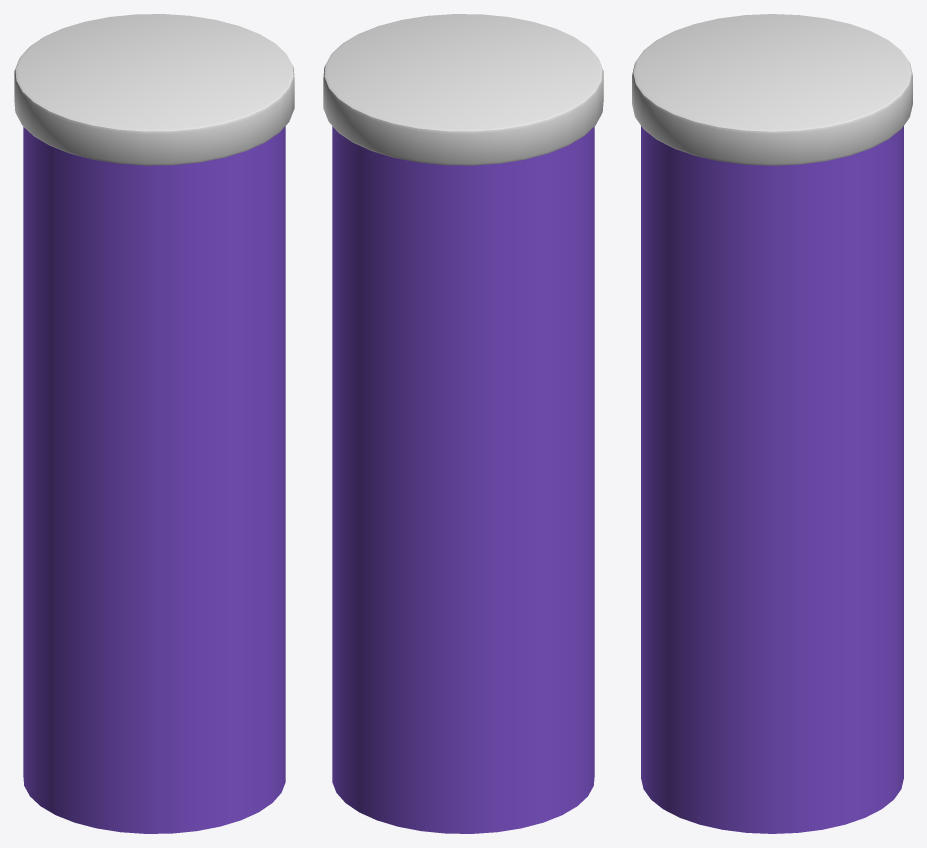
3 views of the same model, side by side, from view 1: azimuth 30°, elevation 25°; view 2: azimuth 150°, elevation 25°; view 3: azimuth 270°, elevation 25° (orthographic).
Parts seen in each view (by area): view 1: Cylinder; view 2: Cylinder; view 3: Cylinder.
Part boxes in pixels (bbox=[...]): Cylinder: bbox=[14, 14, 294, 833]; Cylinder: bbox=[323, 14, 603, 833]; Cylinder: bbox=[632, 14, 912, 833].
Bounding box in the file's own units: 232 × 643 × 232.
